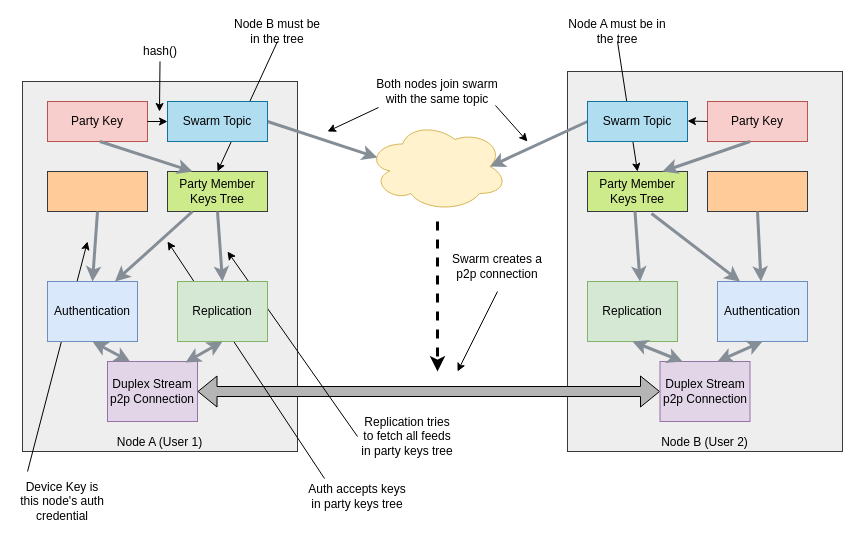
The diagram is 860 pixels wide and 540 high, and some of its shapes have lost their labels. The shapes that lost their labels are listed below. From the top down, each one's centre as x and y in pixels, then its label:
At [437,166]: "swarm".
At [97,191]: "Node A Device Private Key".
At [757,191]: "Node B Device Private Key".
